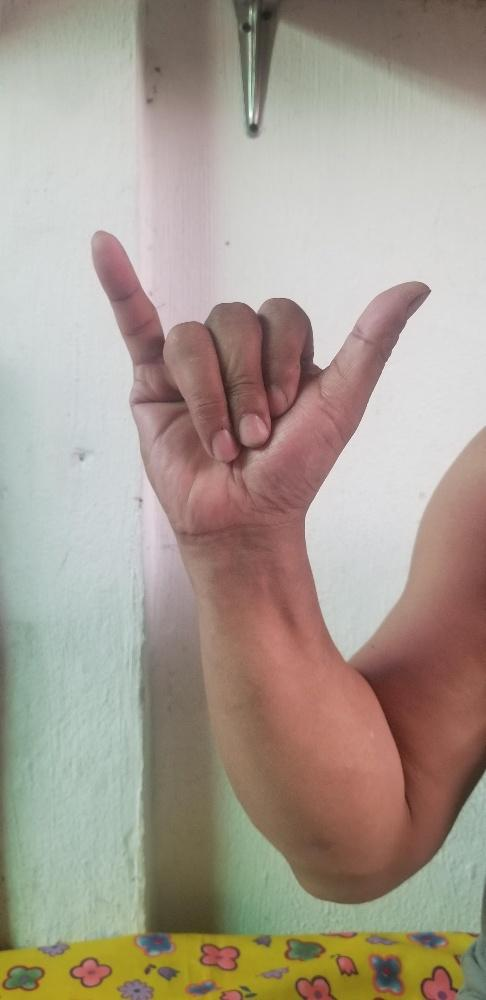y: (85, 227, 429, 520)
